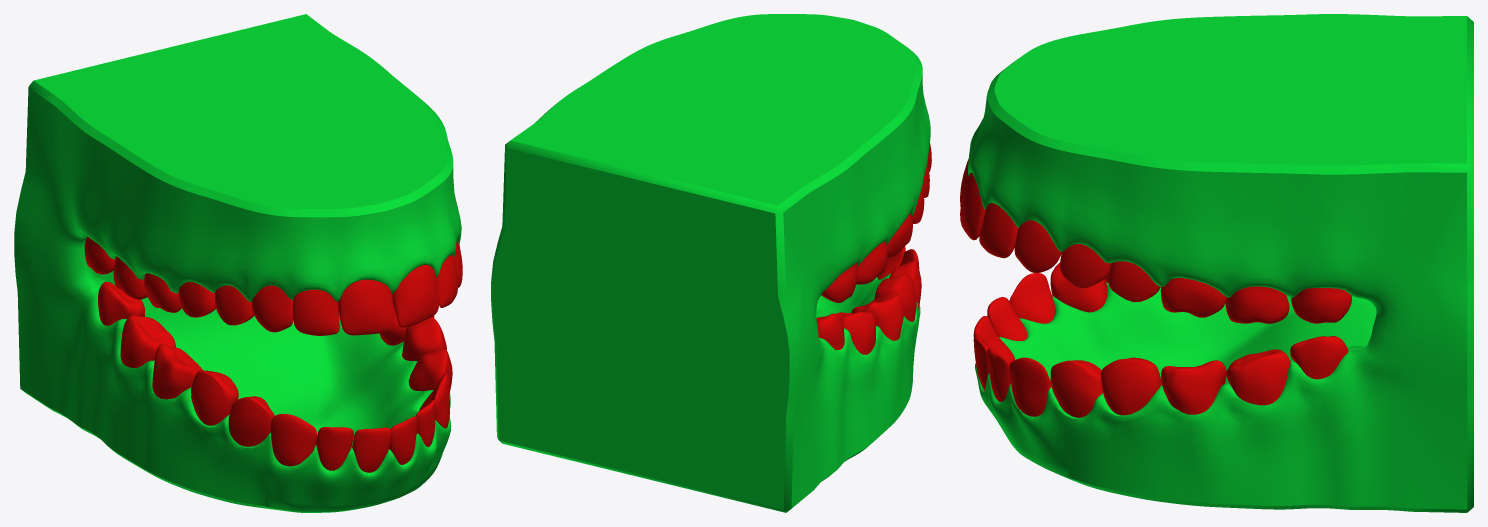
File: Dentiera.fbx
The picture shows the model from 3 angles, left to right: view 1: azimuth 30°, elevation 25°; view 2: azimuth 150°, elevation 25°; view 3: azimuth 270°, elevation 25°; orthographic projection. The views are drawn at different scales.
Visible parts, largest first — view 1: Dentiera; view 2: Dentiera; view 3: Dentiera.
Boxes of the visible parts, box(x1,y1,x2,y2) form: Dentiera: box(14, 14, 462, 512); Dentiera: box(491, 14, 931, 512); Dentiera: box(960, 14, 1473, 512).
Bounding box in the file's own units: 5.9 × 5.62 × 7.59.
